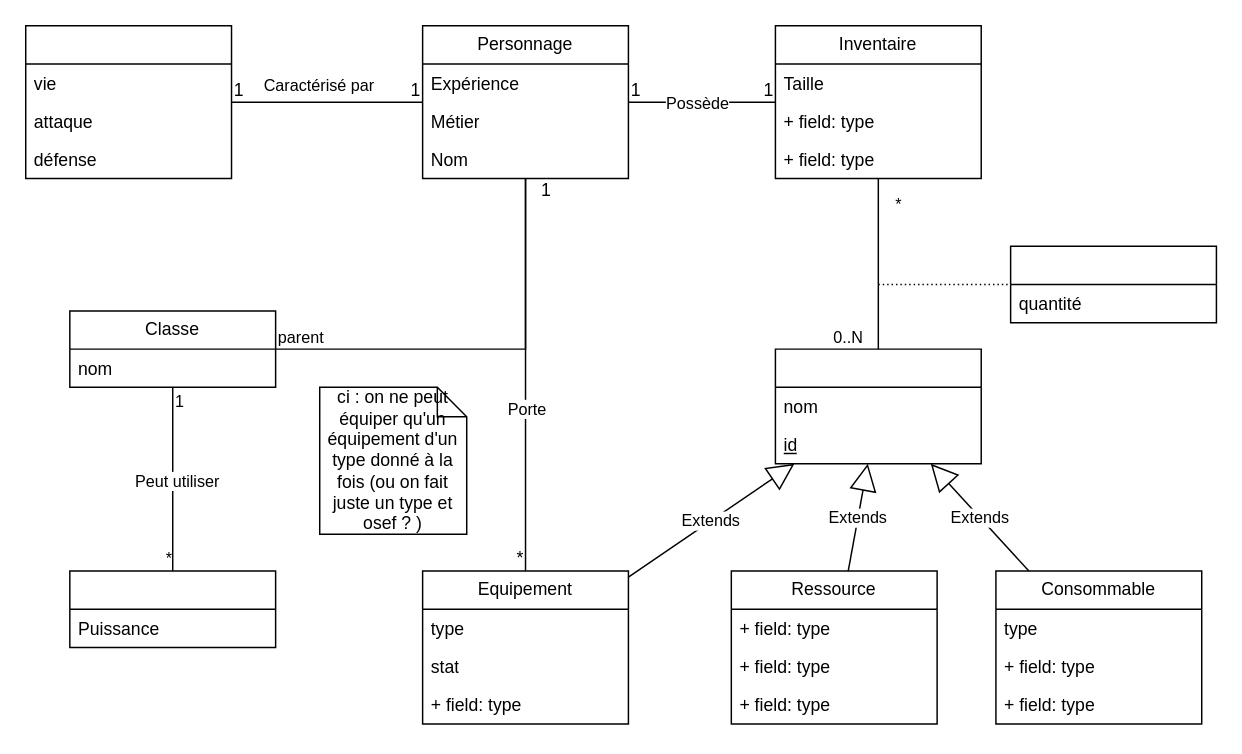
Some shapes in this 1242 by 754 pixel diagram are drawn without their labels. The box of each missing label's shape, as (x1, y1, x2, y2) in pixels:
Groupement: (1009, 245, 1216, 323)
Objet: (774, 348, 981, 464)
Satistiques de base: (24, 24, 232, 179)
Sort: (68, 570, 276, 648)
